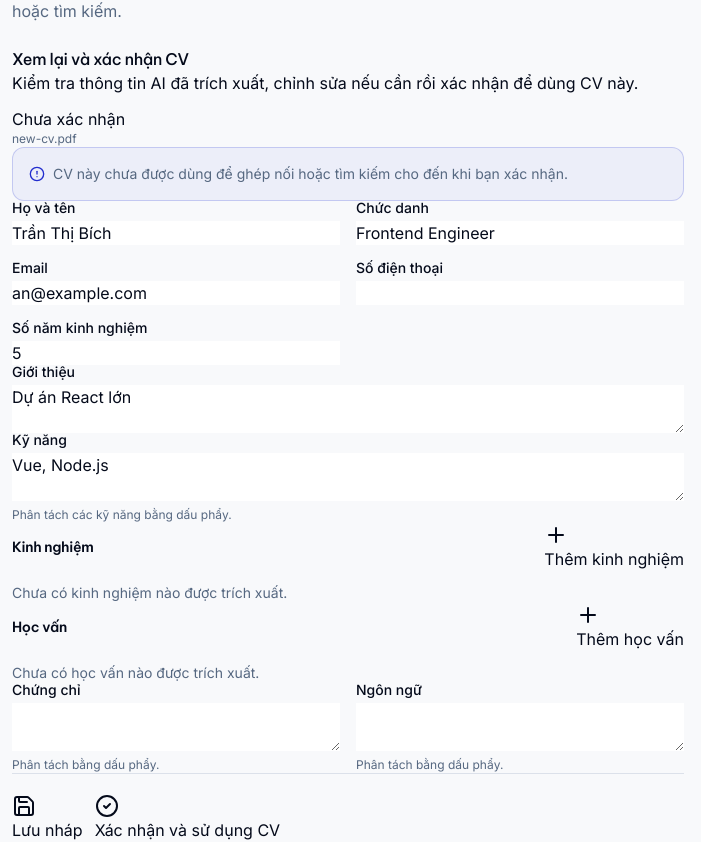
it: ResumeUploadPage › confirms edited draft and replaces the active resume
The width and height of the screenshot is (701, 842).
(page scrolled)
Check: the heading "Xem lại và xác nhận CV" is shown, box [12,49,189,69]
Click the button "Xác nhận và sử dụng CV". click: (187, 818)
box: [95,794,280,841]
(page scrolled)
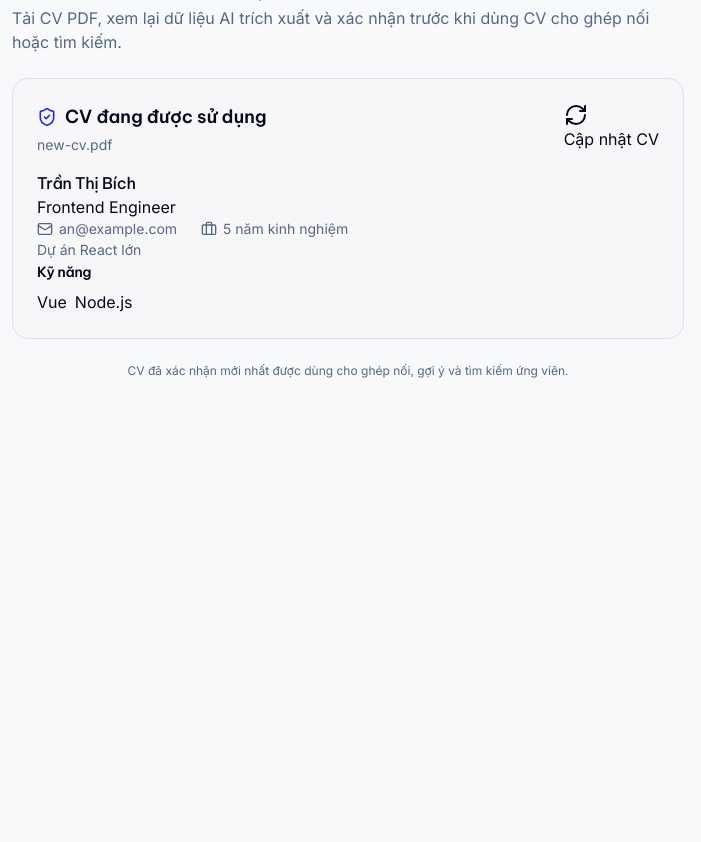
Check: the text "CV đang được sử dụng" is shown, box [37,103,266,131]
Check: the heading "Xem lại và xác nhận CV" is gone
